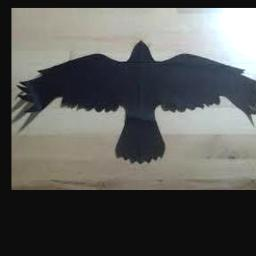Crow: (18, 40, 256, 164)
